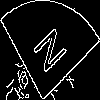N: (25, 24, 68, 83)
